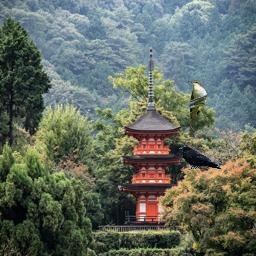Crow: (178, 146, 222, 170)
Cuckoo: (188, 80, 207, 137)
